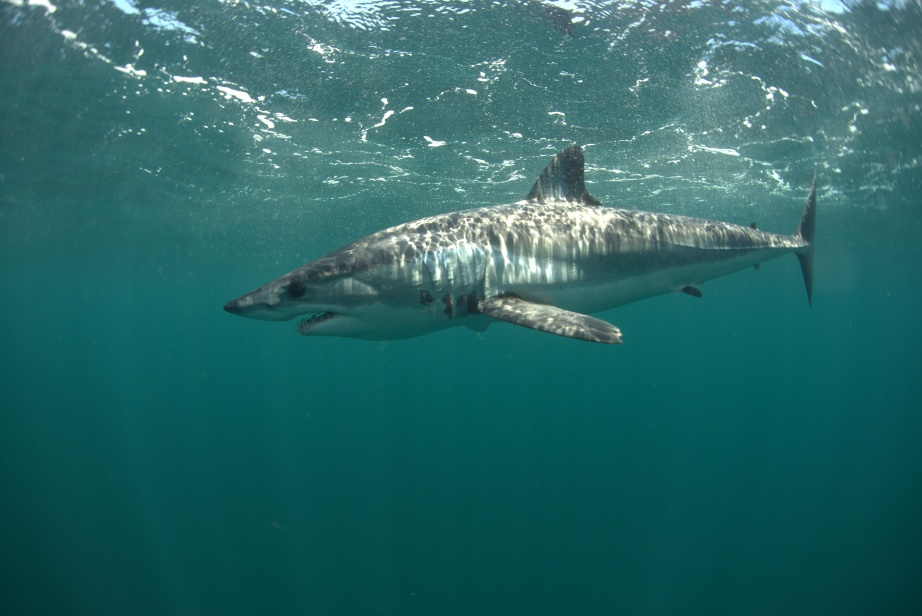Mako: (219, 139, 834, 357)
